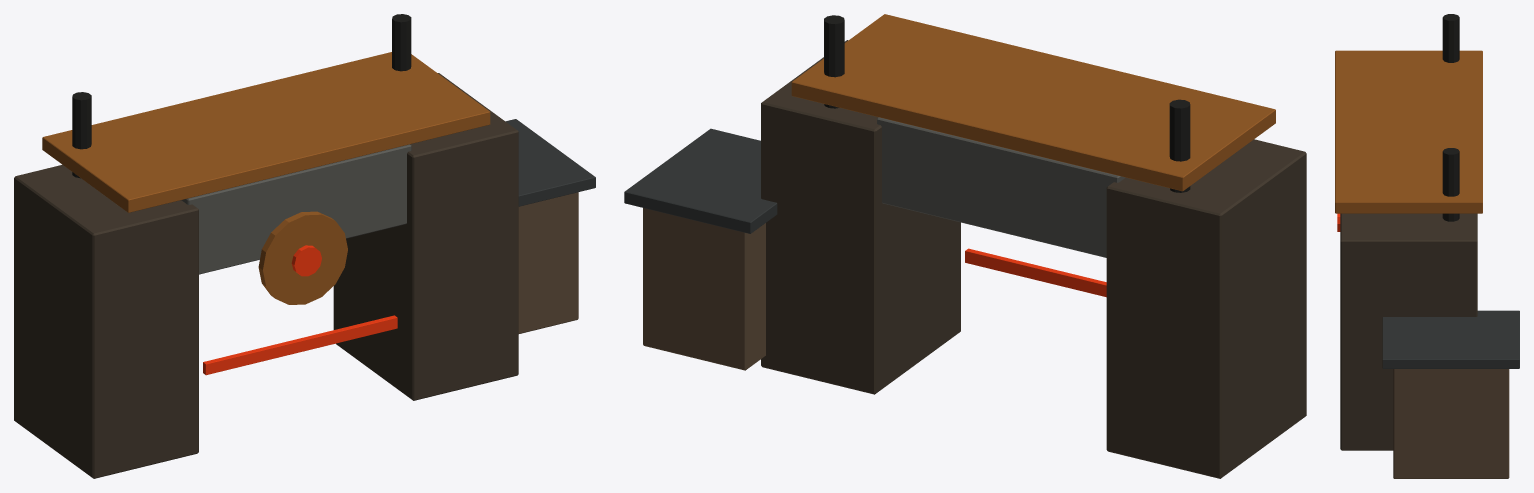
Rendered from BrassIndustrialGatehouseV2.glb.
3 views of the same model, side by side, from view 1: azimuth 30°, elevation 25°; view 2: azimuth 150°, elevation 25°; view 3: azimuth 270°, elevation 25° (orthographic). The views are drawn at different scales.
Visible parts, largest first — view 1: BrassIndustrialGatehouseV2; view 2: BrassIndustrialGatehouseV2; view 3: BrassIndustrialGatehouseV2.
Part boxes in pixels (box(x1,y1,x2,y2)): BrassIndustrialGatehouseV2: box(14, 14, 595, 478); BrassIndustrialGatehouseV2: box(624, 14, 1306, 478); BrassIndustrialGatehouseV2: box(1335, 14, 1519, 478).
Size of the model in its own units: 49.5 by 29 by 17.5.
Materials: 1 (1 with a texture image).
